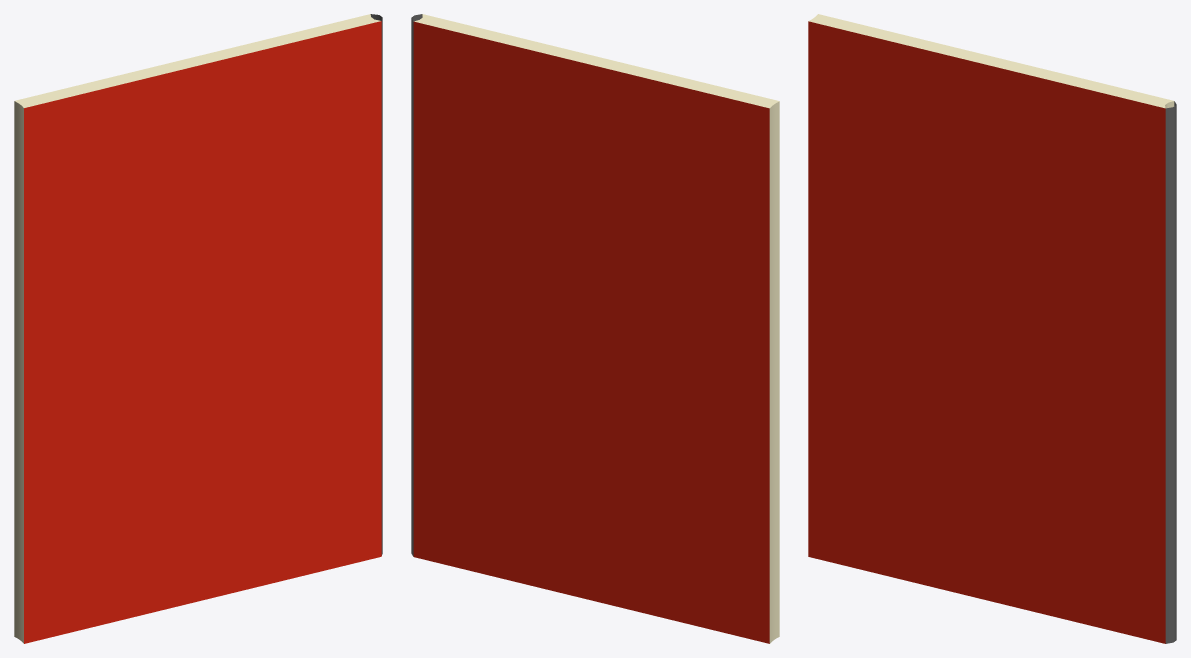
Rendered from Notebook_01.fbx.
3 views of the same model, side by side, from view 1: azimuth 30°, elevation 25°; view 2: azimuth 150°, elevation 25°; view 3: azimuth 330°, elevation 25° (orthographic).
Visible parts, largest first — view 1: Notebook_01; view 2: Notebook_01; view 3: Notebook_01.
Part boxes in pixels (left/top/right/bottom): Notebook_01: left=14, top=14, right=382, bottom=643; Notebook_01: left=411, top=14, right=779, bottom=643; Notebook_01: left=808, top=14, right=1176, bottom=643.
Bounding box in the file's own units: 21 × 29.7 × 1.
